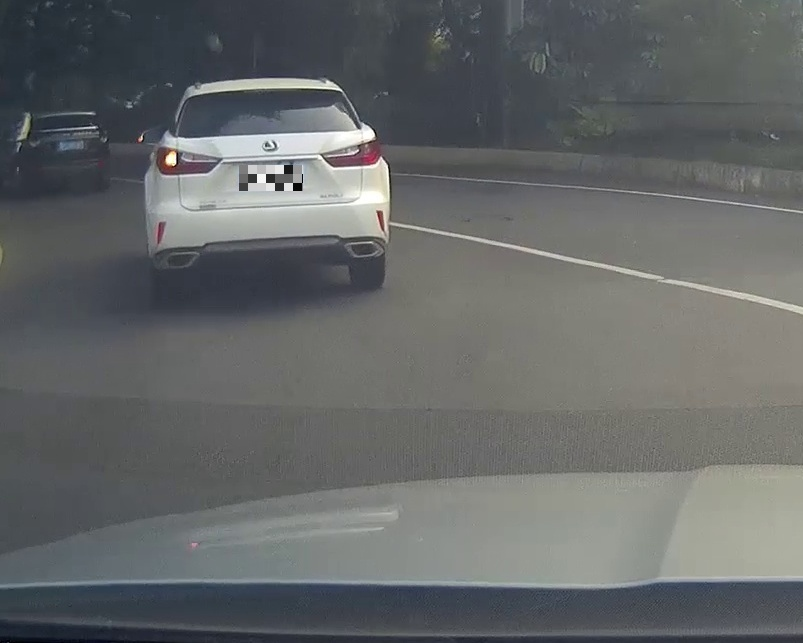L_light: (158, 145, 223, 176)
R_light: (321, 137, 381, 168)
T_light: (244, 89, 279, 93)
day-left: (149, 77, 388, 301)
plate_1: (239, 165, 303, 191)
